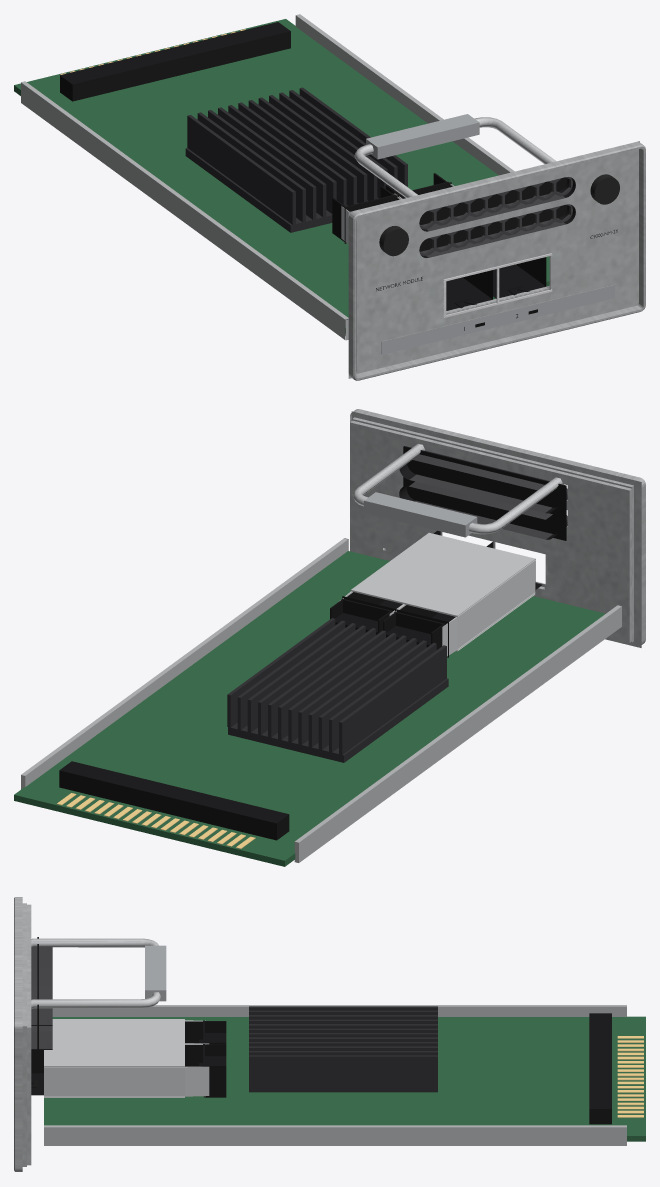
The picture shows the model from 3 angles, top to bottom: view 1: azimuth 30°, elevation 25°; view 2: azimuth 150°, elevation 25°; view 3: azimuth 270°, elevation 25°; orthographic projection. The views are drawn at different scales.
Visible parts, largest first — view 1: Body; view 2: Body; view 3: Body.
Part boxes in pixels (<box>): Body: <box>14,14,645,380</box>; Body: <box>14,409,645,866</box>; Body: <box>14,897,645,1171</box>.
Size of the model in its own units: 0.0805 by 0.0438 by 0.1672.
Materials: 15 (3 with a texture image).
